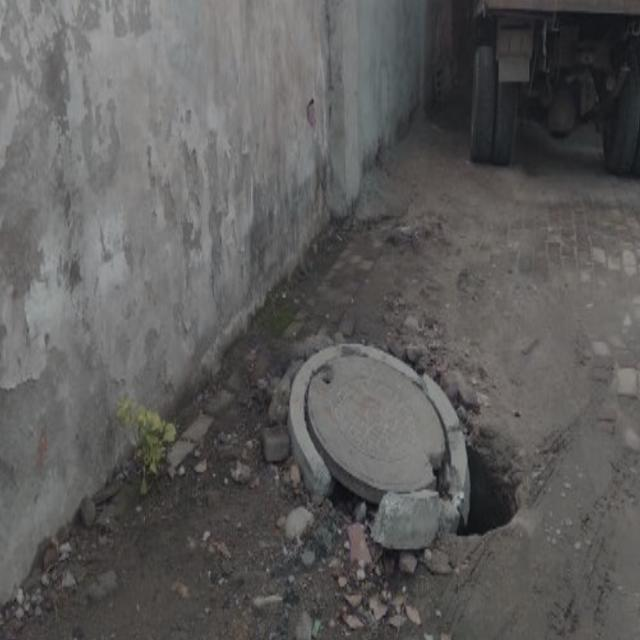circle: (285, 339, 502, 554)
